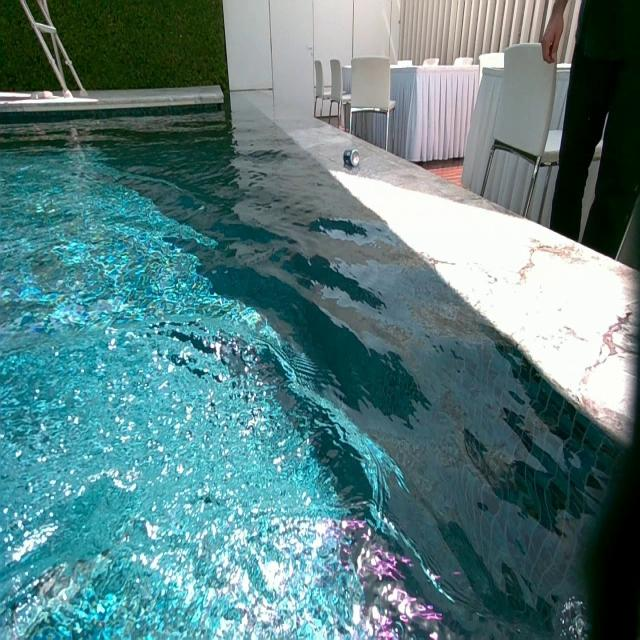Cans: (344, 148, 361, 165)
